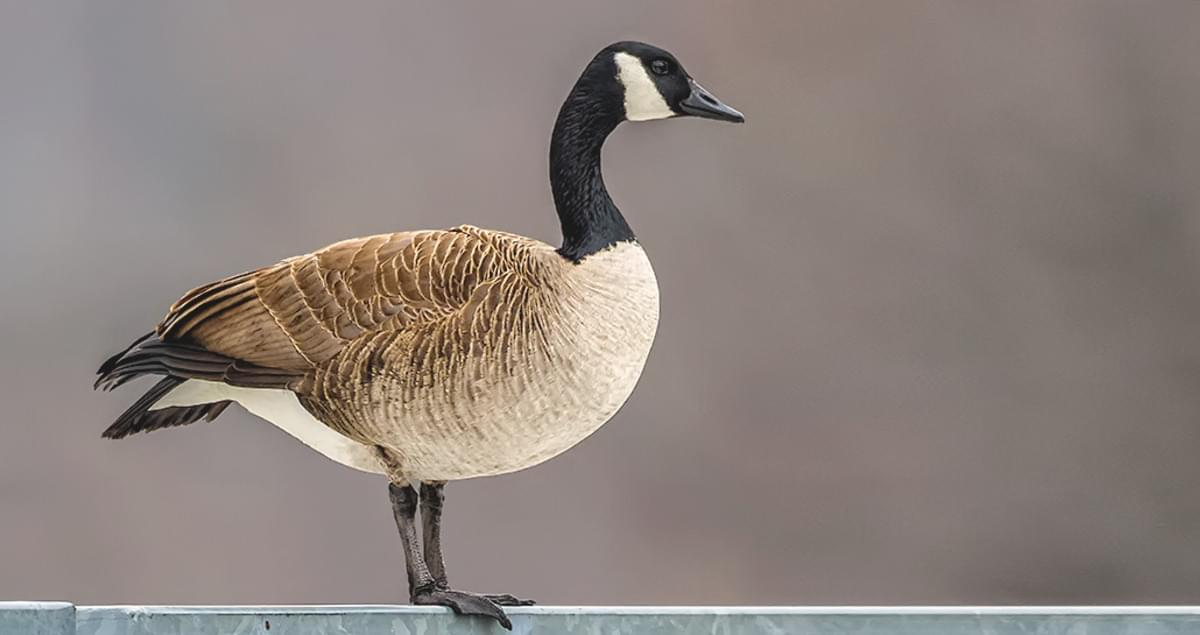Canadian-Goose: (96, 36, 751, 623)
